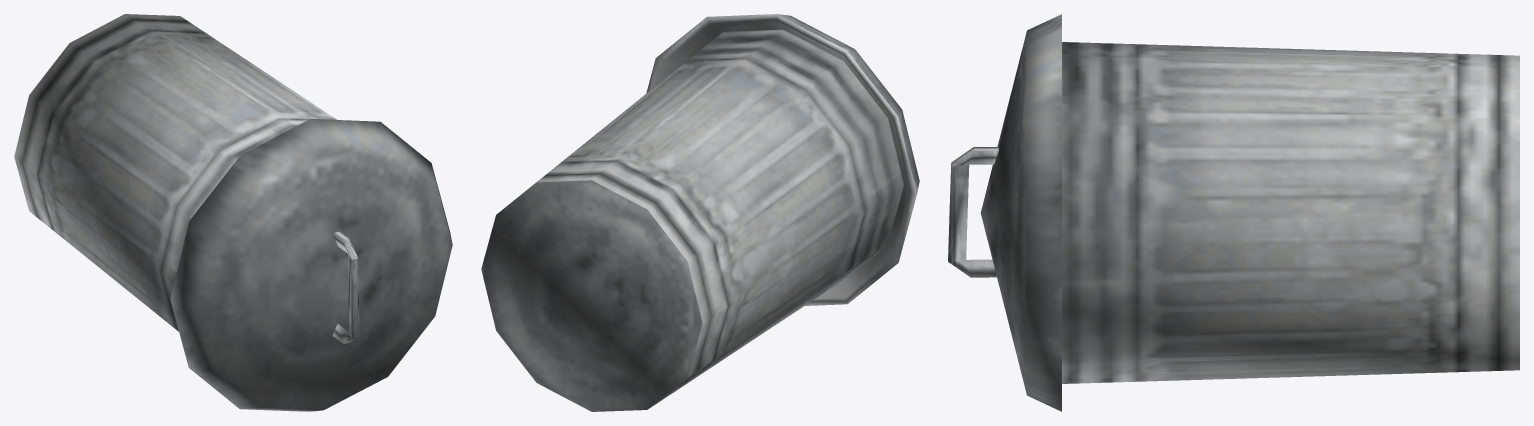
Rendered from trashcan.glb.
3 views of the same model, side by side, from view 1: azimuth 30°, elevation 25°; view 2: azimuth 150°, elevation 25°; view 3: azimuth 270°, elevation 25° (orthographic). The views are drawn at different scales.
Visible parts, largest first — view 1: Trashcan_Cover_di.002, Trashcan_di; view 2: Trashcan_di, Trashcan_Cover_di.002; view 3: Trashcan_di, Trashcan_Cover_di.002.
Boxes of the visible parts, bbox=[...] form: Trashcan_Cover_di.002: bbox=[170, 119, 452, 411]; Trashcan_di: bbox=[14, 14, 336, 331]; Trashcan_di: bbox=[481, 29, 904, 411]; Trashcan_Cover_di.002: bbox=[646, 14, 919, 305]; Trashcan_di: bbox=[1062, 42, 1519, 383]; Trashcan_Cover_di.002: bbox=[948, 14, 1061, 411].
Bounding box in the file's own units: 0.5191 × 0.5191 × 0.7433.
Materials: 1 (1 with a texture image).
